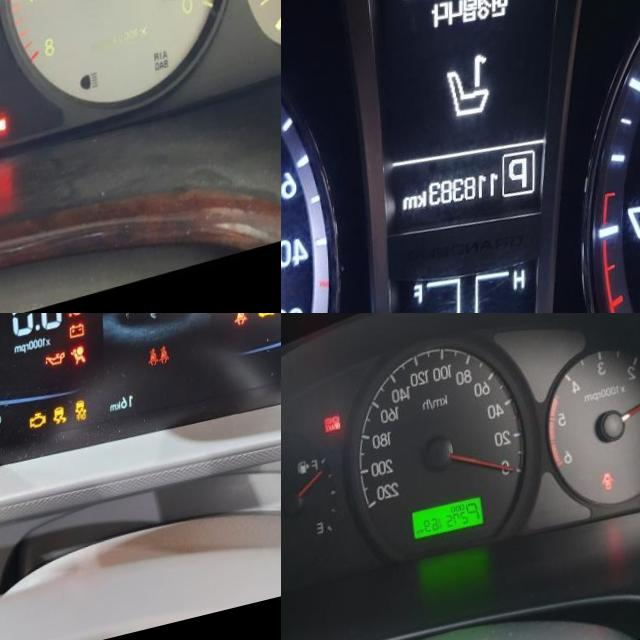Doors: (598, 493, 612, 515)
